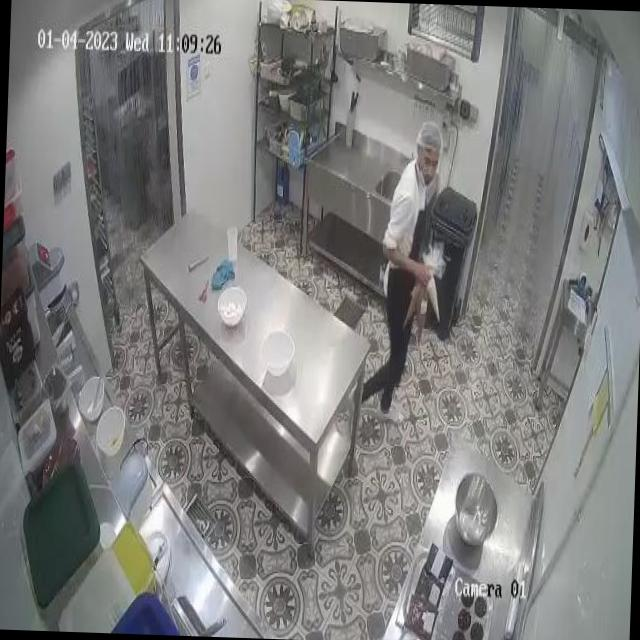hairnet: (416, 125, 443, 154)
